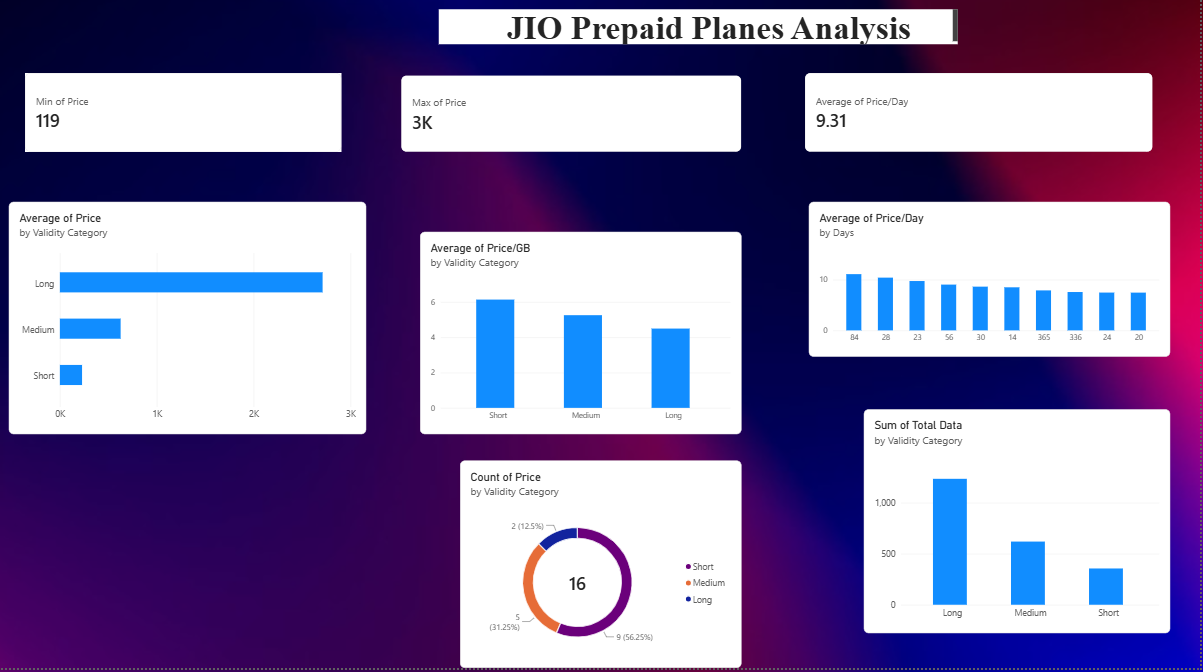

The dashboard page shown, as its layout file describes it:
{"tool":"powerbi","page":{"name":"Page 1","canvas":[1920,1080],"ordinal":0},"visuals":[{"type":"cardVisual","fields":{"Data":["Min(Jio - Jio Prepaid Planes.Price)"]},"box":[40,128,506,126],"z":0},{"type":"cardVisual","fields":{"Data":["Avg(Jio - Jio Prepaid Planes.Price/Day)"]},"box":[1288,128,556,126],"z":1000},{"type":"donutChart","fields":{"Category":["Jio - Jio Prepaid Planes.Validity Category"],"Y":["CountNonNull(Jio - Jio Prepaid Planes.Price)"]},"box":[736,748,450,332],"z":2000},{"type":"barChart","fields":{"Category":["Jio - Jio Prepaid Planes.Validity Category"],"Y":["Avg(Jio - Jio Prepaid Planes.Price)"]},"box":[14,334,572,372],"z":3000},{"type":"clusteredColumnChart","fields":{"Category":["Jio - Jio Prepaid Planes.Days"],"Y":["Avg(Jio - Jio Prepaid Planes.Price/Day)"]},"box":[1294,334,578,248],"z":4000},{"type":"clusteredColumnChart","fields":{"Category":["Jio - Jio Prepaid Planes.Validity Category"],"Y":["Sum(Jio - Jio Prepaid Planes.Total Data)"]},"box":[1382,666,490,358],"z":5000},{"type":"clusteredColumnChart","fields":{"Category":["Jio - Jio Prepaid Planes.Validity Category"],"Y":["Avg(Jio - Jio Prepaid Planes.Price/GB)"]},"box":[672,382,514,324],"z":6000},{"type":"cardVisual","fields":{"Data":["Max(Jio - Jio Prepaid Planes.Price)"]},"box":[642,132,544,122],"z":7000},{"type":"textbox","box":[702,52,696,30],"z":8000},{"type":"textbox","box":[702,26,830,56],"z":9000}]}

Visuals, with their boxes in screenshot pixels (x1, y1, x2, y2), scaled from the page's 1920x1080 canvas onto the 1203x672 screenshot:
cardVisual - Min(Jio - Jio Prepaid Planes.Price): (25,80,342,158)
cardVisual - Avg(Jio - Jio Prepaid Planes.Price/Day): (807,80,1155,158)
donutChart - Jio - Jio Prepaid Planes.Validity Category x CountNonNull(Jio - Jio Prepaid Planes.Price): (461,465,743,671)
barChart - Jio - Jio Prepaid Planes.Validity Category x Avg(Jio - Jio Prepaid Planes.Price): (9,208,367,439)
clusteredColumnChart - Jio - Jio Prepaid Planes.Days x Avg(Jio - Jio Prepaid Planes.Price/Day): (811,208,1173,362)
clusteredColumnChart - Jio - Jio Prepaid Planes.Validity Category x Sum(Jio - Jio Prepaid Planes.Total Data): (866,414,1173,637)
clusteredColumnChart - Jio - Jio Prepaid Planes.Validity Category x Avg(Jio - Jio Prepaid Planes.Price/GB): (421,238,743,439)
cardVisual - Max(Jio - Jio Prepaid Planes.Price): (402,82,743,158)
textbox: (440,32,876,51)
textbox: (440,16,960,51)
